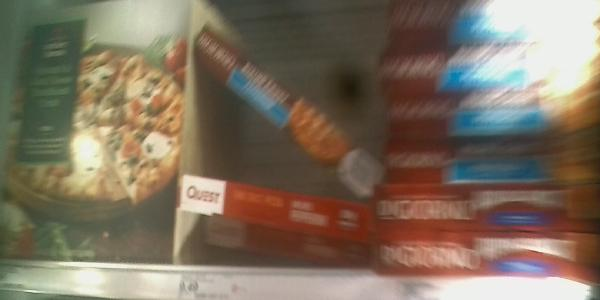pizza1: (1, 1, 186, 263)
pizza2: (189, 25, 365, 202), (176, 170, 370, 251), (389, 95, 597, 141), (373, 188, 599, 230), (380, 51, 599, 94), (388, 1, 599, 45), (378, 236, 596, 273), (381, 149, 597, 183)
